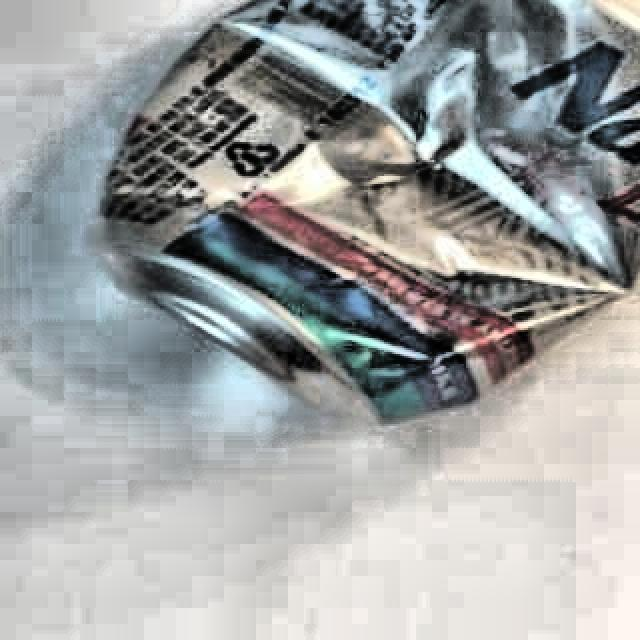metal: (84, 0, 640, 424)
